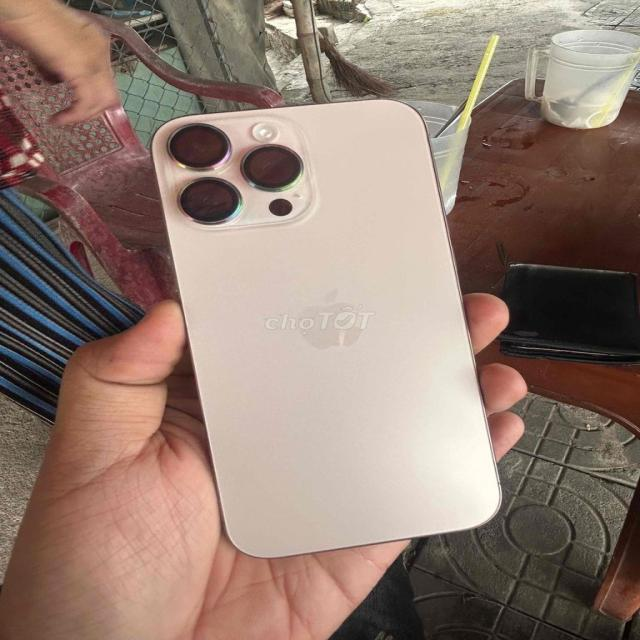gen_16: (152, 100, 500, 557)
